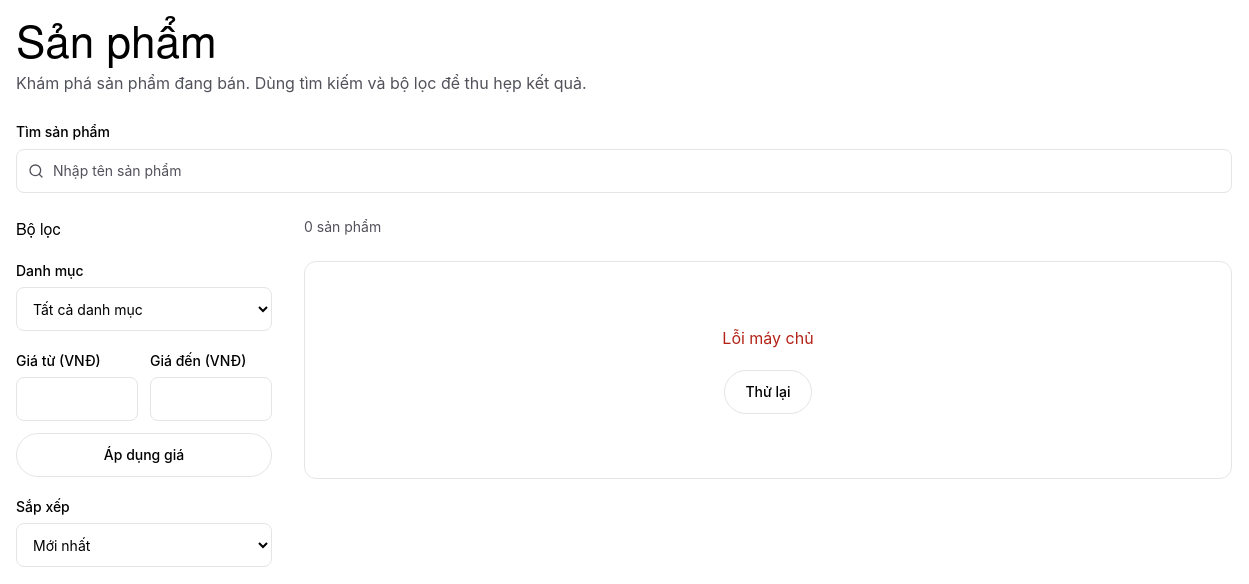
Scenario: ProductListPage › shows the server error and retries on demand
This screenshot has width=1249, height=584.
Expected: the message "Lỗi máy chủ" is shown, [722,328,814,348]
Click the button "Thử lại".
click(768, 392)  # box [724,370,812,414]
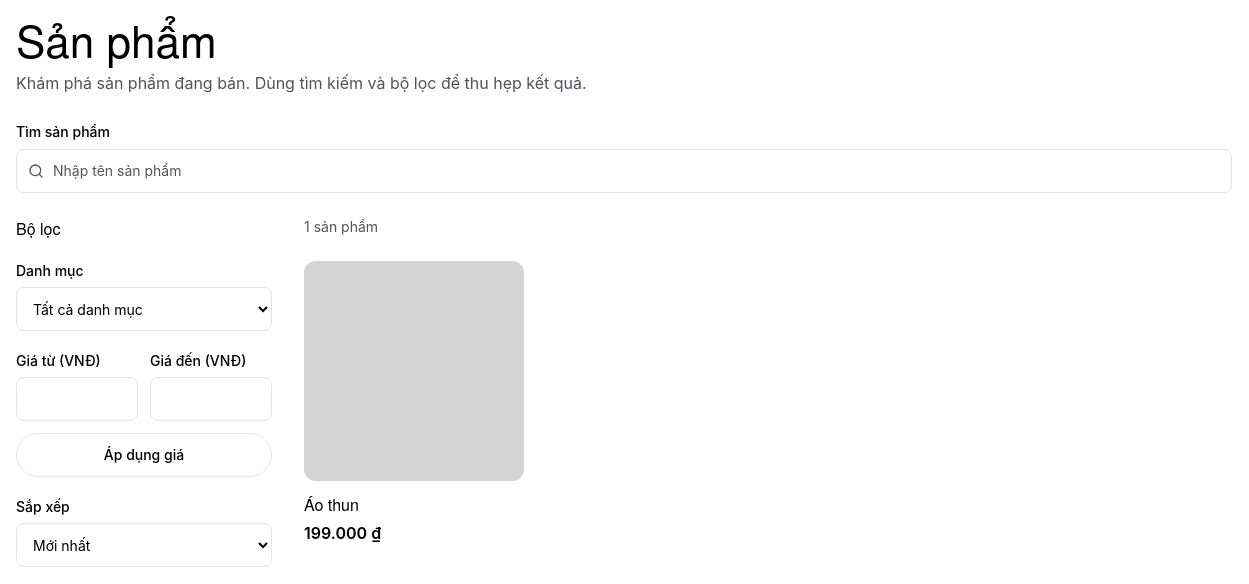
Result: the heading "Áo thun" is shown at [304,493,359,516]
